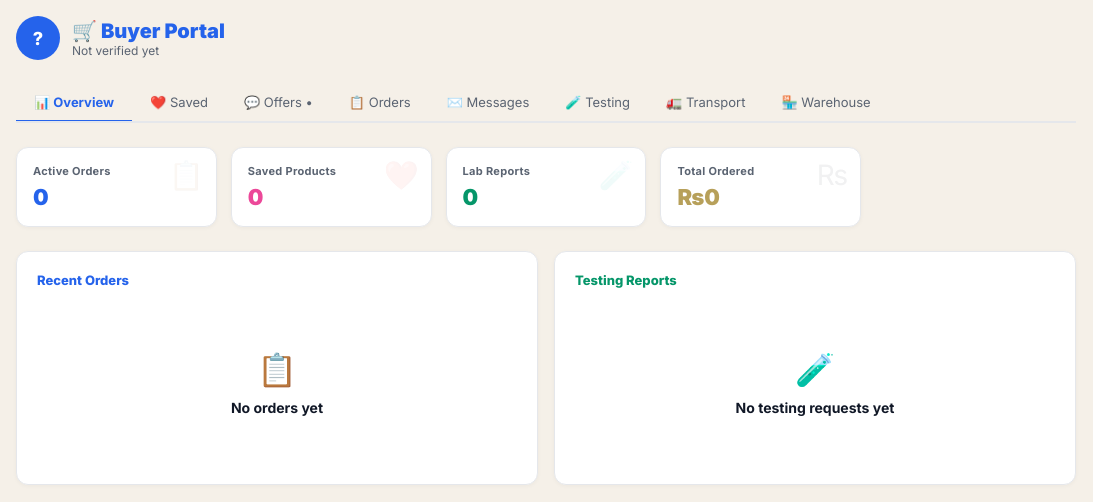
Buyer → Offers tab (counter-offer decisions) › shows the server error when accepting fails (e.g. stock gone)
The image size is (1093, 502).
Click the tab "💬 Offers •" at {"x": 278, "y": 104}, box [226,84,331,123]
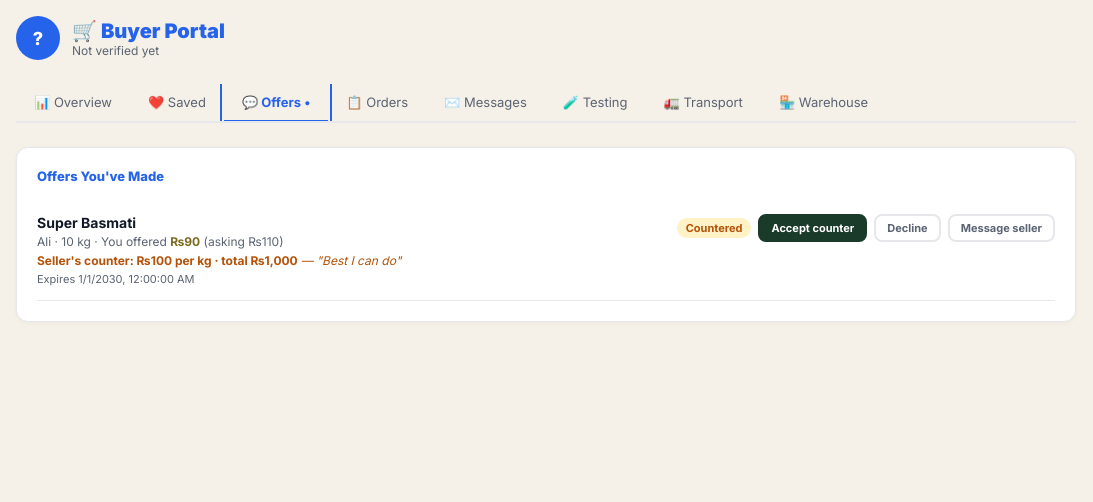
Click the button "Accept counter" at {"x": 813, "y": 228}, box [758,214,867,242]
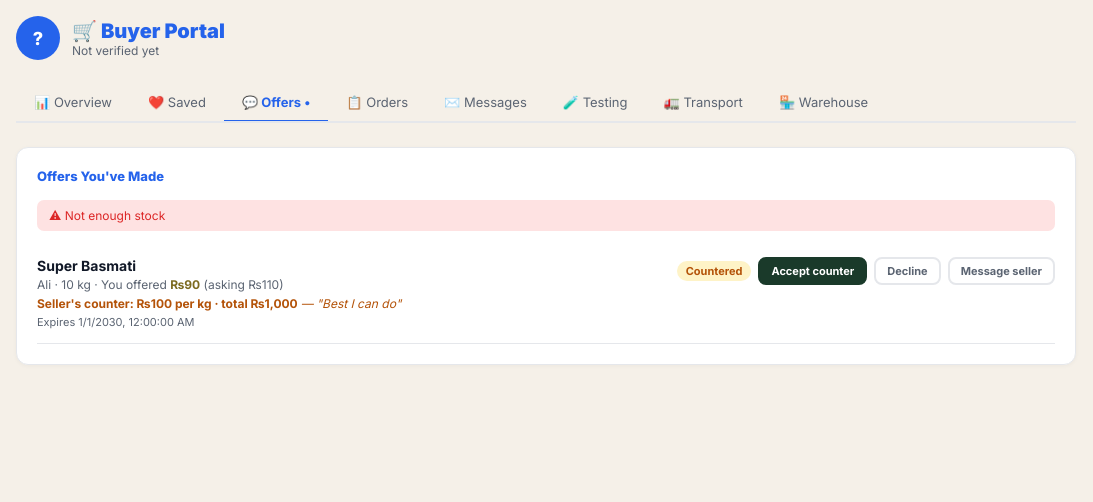
Now the text "⚠ Not enough stock" is shown, box [37,200,1055,231]
